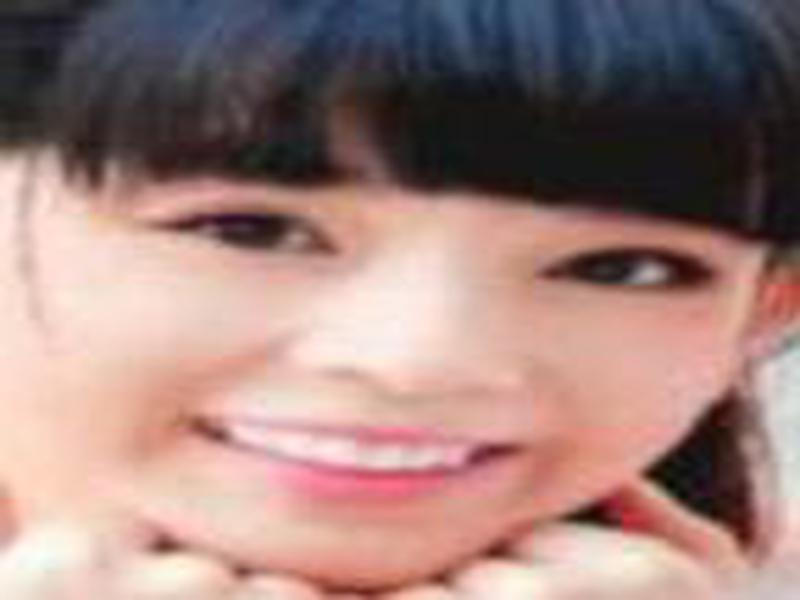without_mask: (8, 127, 782, 593)
